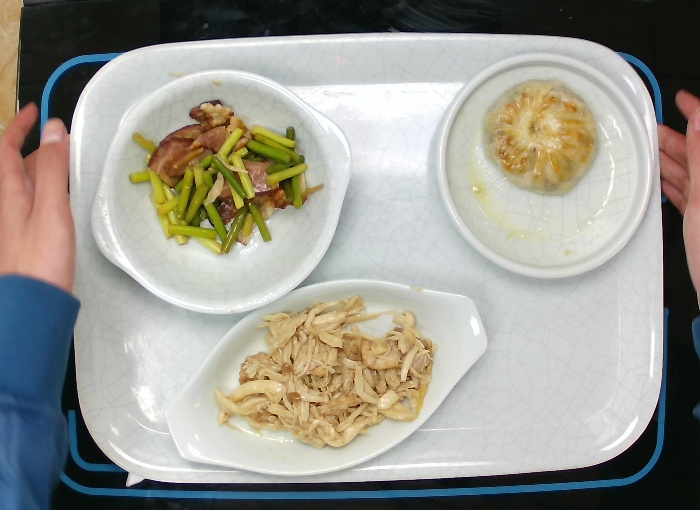JYsf-Shuang_Er_Wan: (88, 68, 352, 315)
JYsf-Xiao_Yuan_Pan: (434, 52, 652, 282)
JYsf-Yu_Pan: (166, 277, 488, 479)
